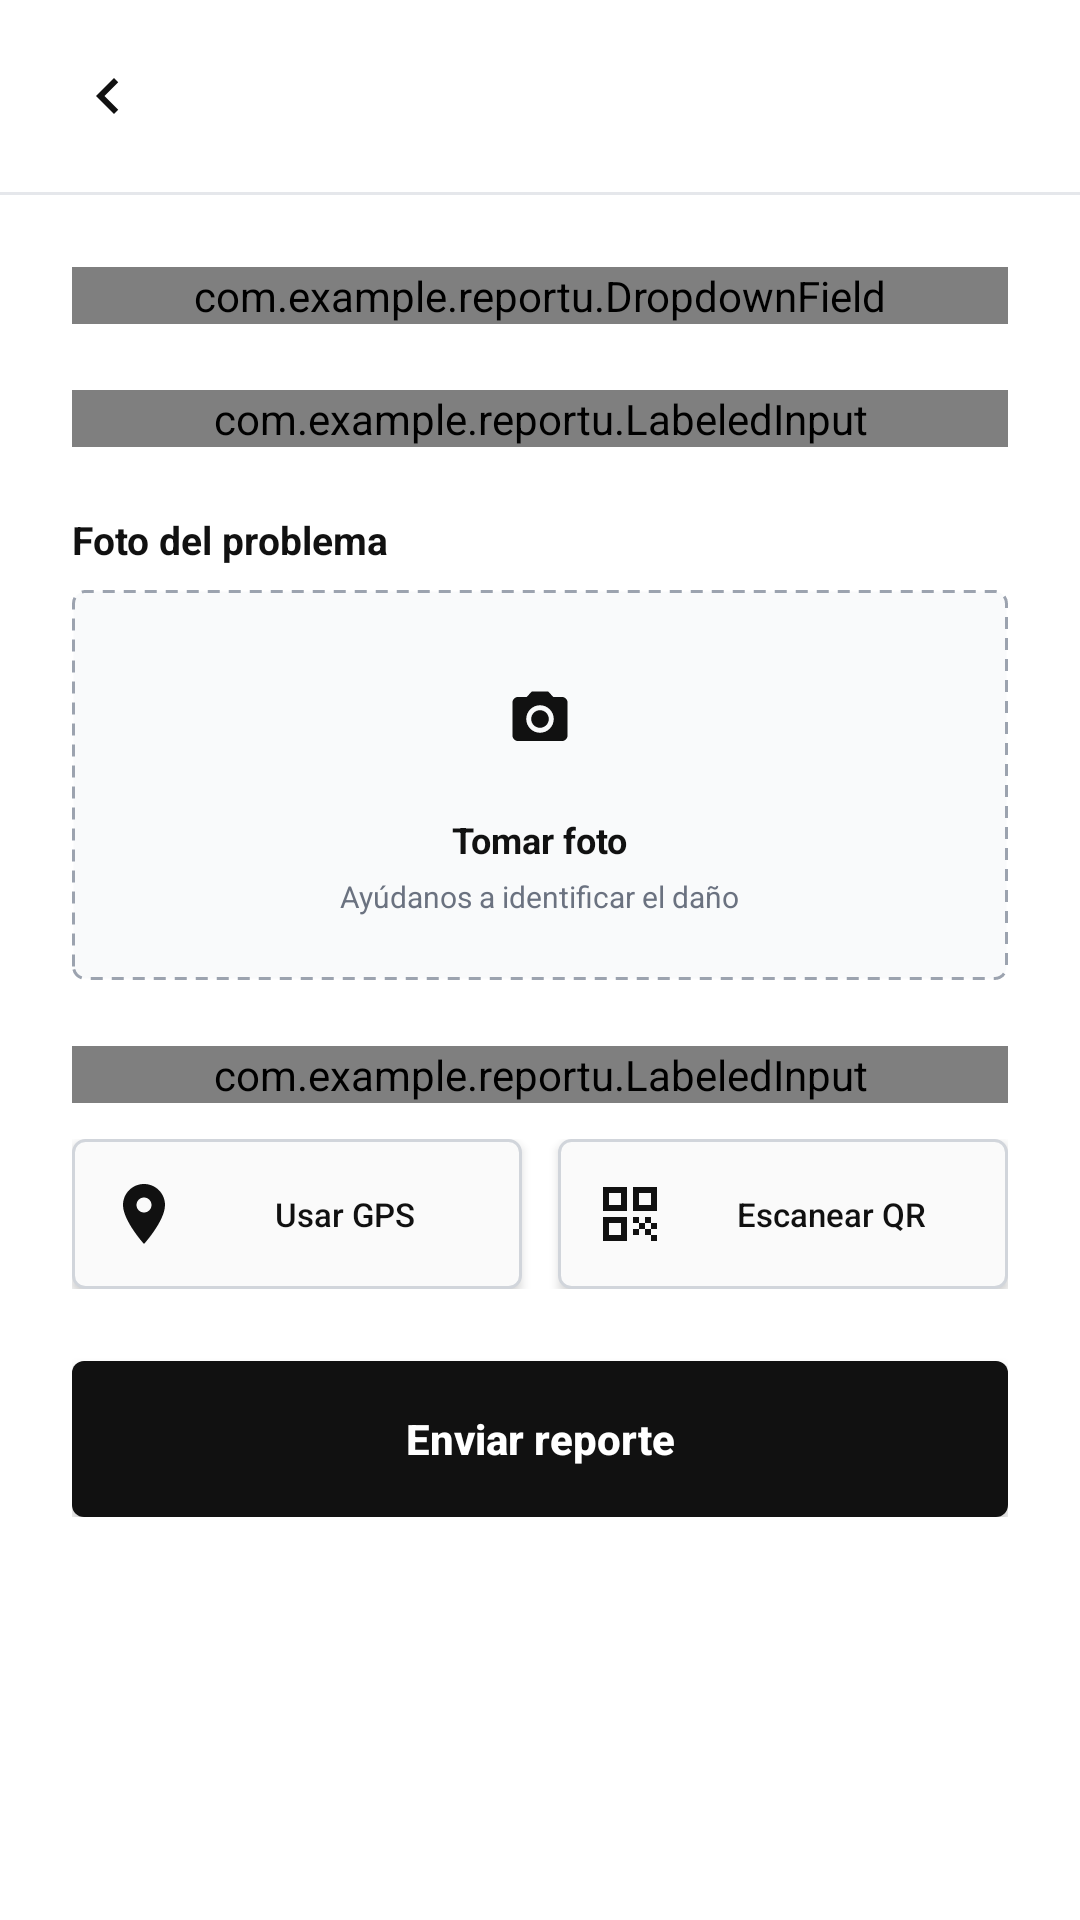

Icon click points for this 1080×1920 phone screenshot, format [x,y]:
camera: [540,716]
Regresar: [107,96]
